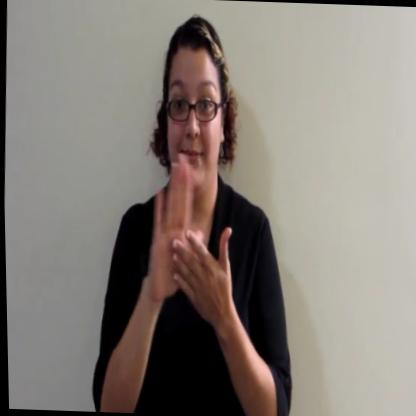NiceToMeetYou: (140, 146, 241, 354)
